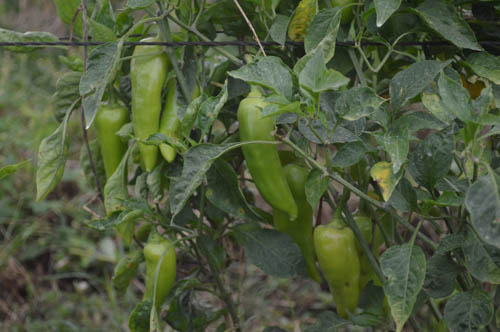ChiliPepper: (234, 99, 298, 221), (129, 38, 164, 172), (278, 165, 316, 277), (317, 225, 362, 315), (158, 77, 199, 169), (93, 106, 130, 180), (143, 239, 176, 308), (356, 214, 386, 288)
